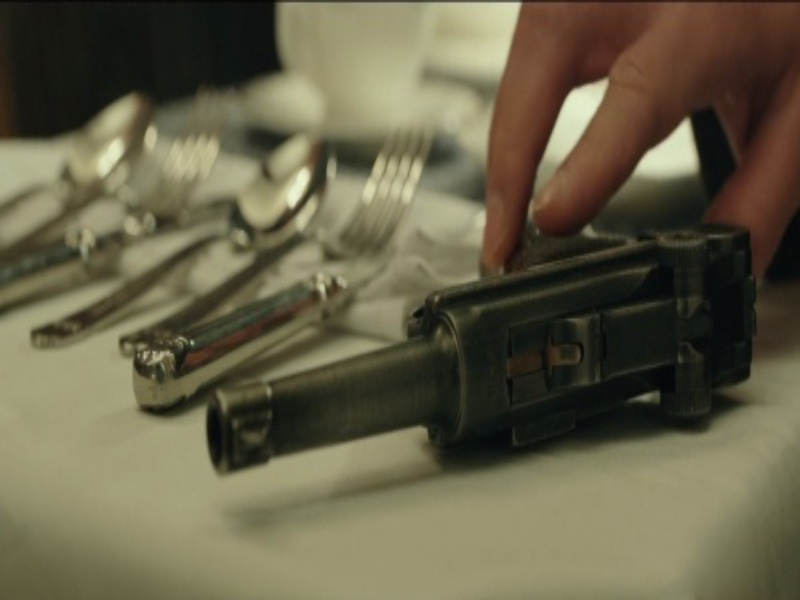weapon: (202, 219, 755, 476)
